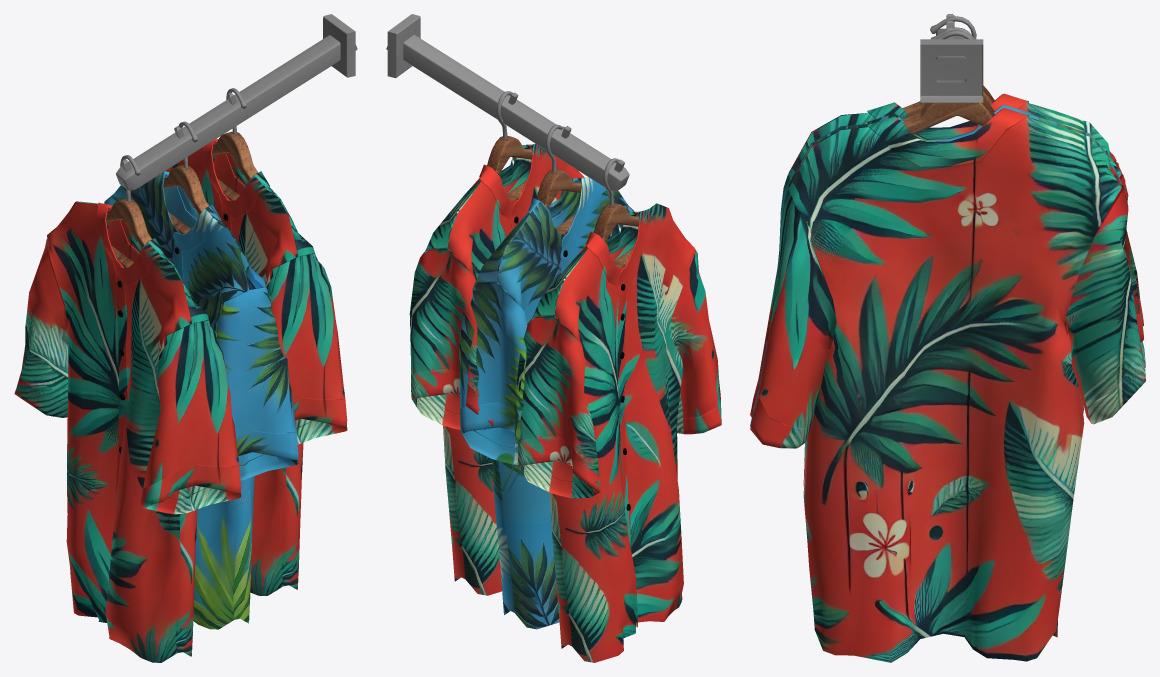
File: Shirts.fbx
3 renders of one model, left to right at view 1: azimuth 30°, elevation 25°; view 2: azimuth 150°, elevation 25°; view 3: azimuth 270°, elevation 25°, orthographic. The views are drawn at different scales.
Visible parts, largest first — view 1: Red_shirt, Blue_shirt, Red_shirt.001, MainHandle, Handeler, Handeler.001, Handeler.002; view 2: Red_shirt, Blue_shirt, Red_shirt.001, MainHandle, Handeler.001, Handeler.002, Handeler; view 3: Red_shirt.001, Red_shirt, MainHandle, Handeler.002, Blue_shirt, Handeler.
Boxes of the visible parts, <box> form: Red_shirt: <box>14,201,241,662</box>; Blue_shirt: <box>104,171,298,629</box>; Red_shirt.001: <box>165,138,347,595</box>; MainHandle: <box>116,14,357,190</box>; Handeler: <box>106,155,151,267</box>; Handeler.001: <box>163,121,209,234</box>; Handeler.002: <box>212,88,257,200</box>; Red_shirt: <box>516,203,721,662</box>; Blue_shirt: <box>459,176,634,629</box>; Red_shirt.001: <box>409,143,584,595</box>; MainHandle: <box>386,14,629,191</box>; Handeler.001: <box>497,124,581,279</box>; Handeler.002: <box>448,91,532,246</box>; Handeler: <box>555,158,638,313</box>; Red_shirt.001: <box>750,107,1145,662</box>; Red_shirt: <box>750,93,1145,486</box>; MainHandle: <box>920,14,983,102</box>; Handeler.002: <box>903,30,994,134</box>; Blue_shirt: <box>750,104,1145,497</box>; Handeler: <box>902,16,994,116</box>.
Bounding box in the file's own units: 61.42 × 119 × 58.85.
